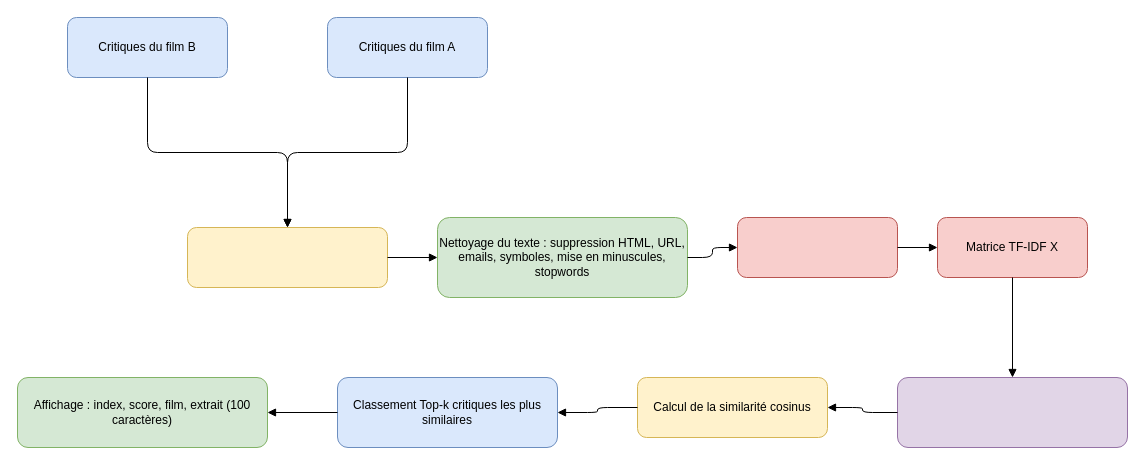
The diagram is 1145 pixels wide and 465 high, and some of its shapes have lost their labels. The shapes that lost their labels are listed below. From the top down, each one's box as (x1, y1, x2, y2) in pixels, then its label:
(186, 226, 388, 288): Concaténation / filtrage par film ('movie')
(736, 216, 898, 278): Vectorisation TF-IDF
(896, 376, 1128, 448): Méthode de recherche : par indice i ou par requête q
